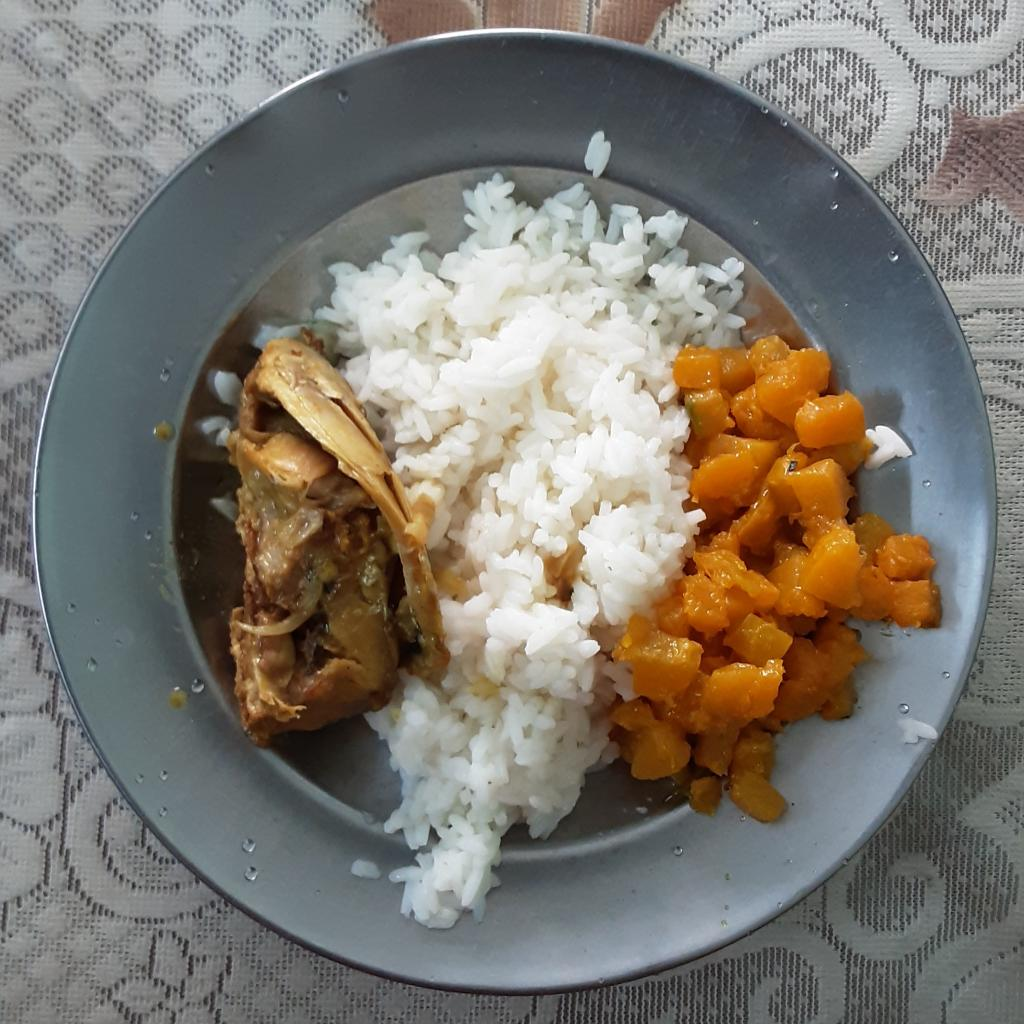fish: (226, 340, 459, 743)
kumra-vaji: (605, 336, 941, 822)
rice: (245, 136, 758, 929)
